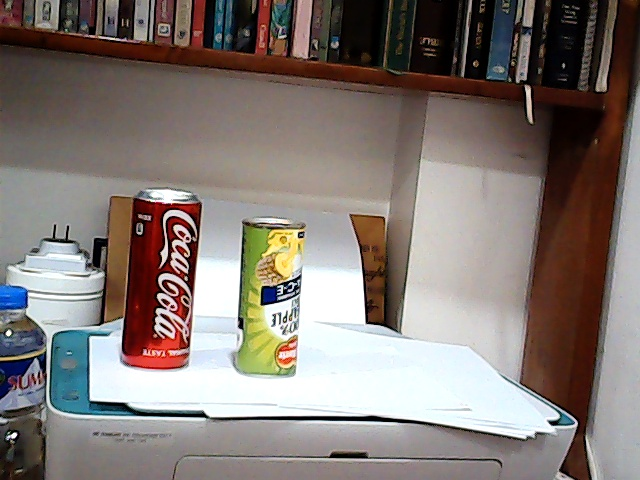Cola: (114, 179, 210, 375)
Pine Juice: (228, 211, 313, 387)
Summit Water: (1, 285, 58, 480)
